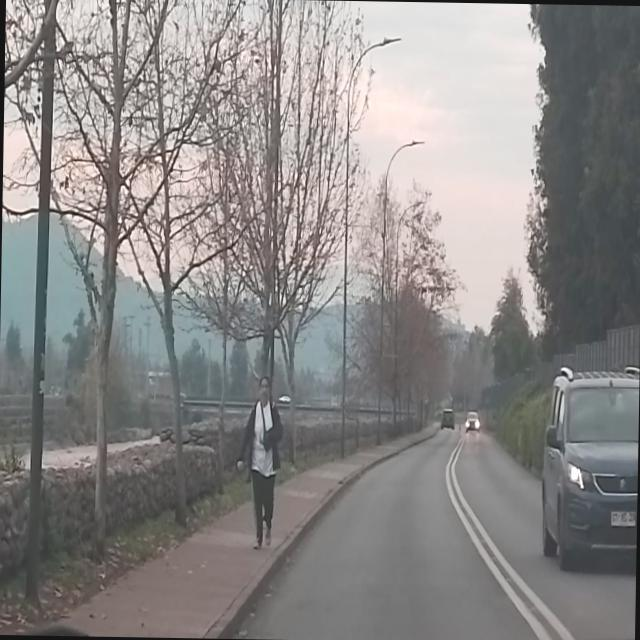person: (233, 372, 285, 555), (637, 424, 638, 426)
